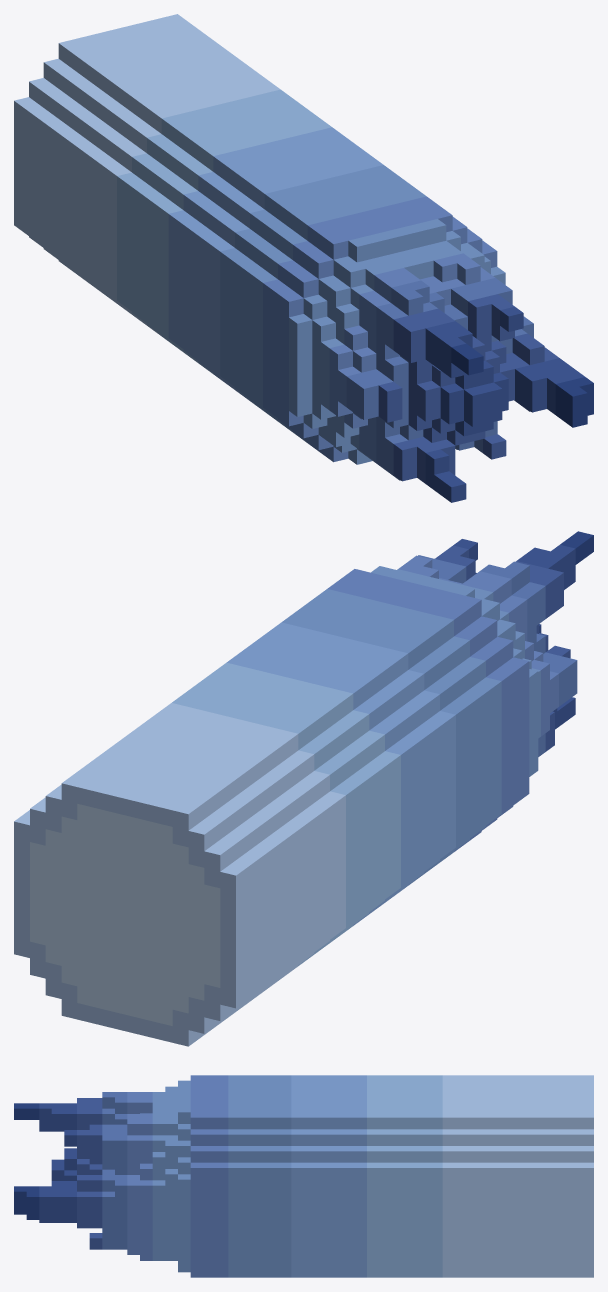
Rendered from light_pillar_1.obj.
3 views of the same model, one above another, from view 1: azimuth 30°, elevation 25°; view 2: azimuth 150°, elevation 25°; view 3: azimuth 270°, elevation 25° (orthographic). The views are drawn at different scales.
Bounding box in the file's own units: 1.4 × 1.4 × 4.6.
